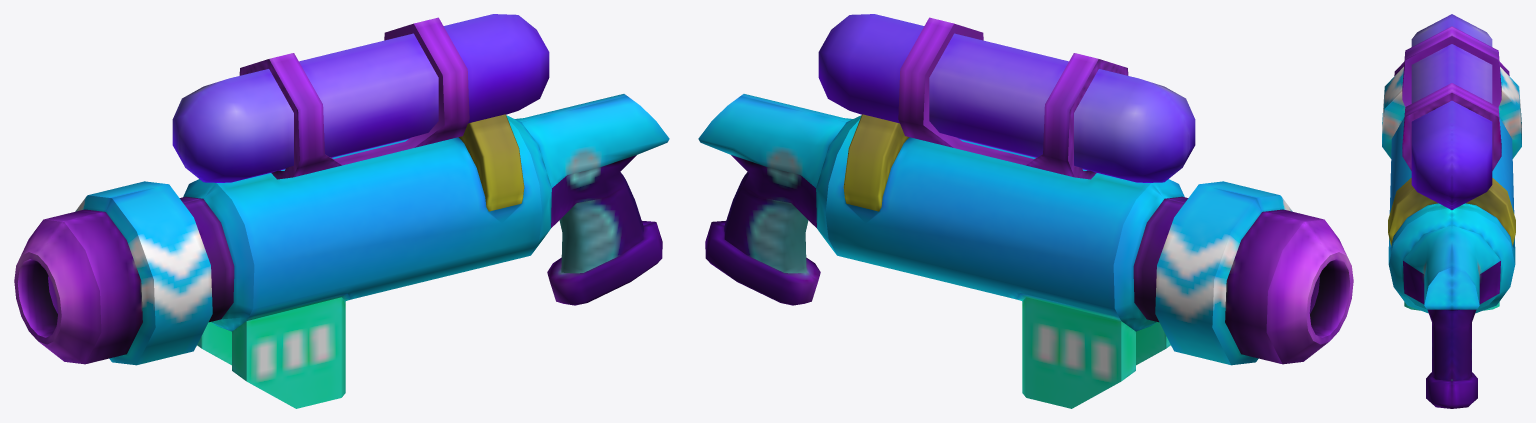
File: watergun2.fbx
The picture shows the model from 3 angles, left to right: view 1: azimuth 30°, elevation 25°; view 2: azimuth 150°, elevation 25°; view 3: azimuth 270°, elevation 25°; orthographic projection. The views are drawn at different scales.
Parts seen in each view (by area): view 1: watergun_2; view 2: watergun_2; view 3: watergun_2.
Boxes of the visible parts, x1,y1,x2,y2 form: watergun_2: (14, 14, 669, 408); watergun_2: (698, 14, 1353, 408); watergun_2: (1382, 14, 1521, 408).
Size of the model in its own units: 18.16 by 9.1 by 4.39.
